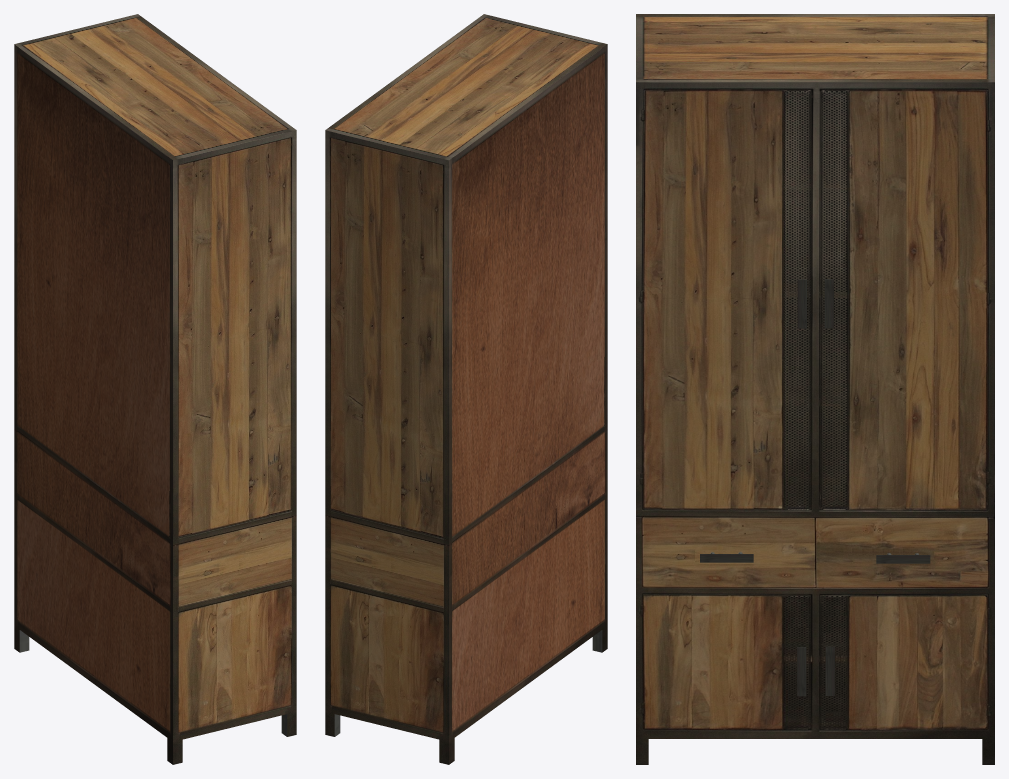
The model's file is chic196.glb.
The picture shows the model from 3 angles, left to right: view 1: azimuth 30°, elevation 25°; view 2: azimuth 150°, elevation 25°; view 3: azimuth 270°, elevation 25°; orthographic projection. The views are drawn at different scales.
Parts seen in each view (by area): view 1: node-0; view 2: node-0; view 3: node-0.
Boxes of the visible parts, bbox=[...] form: node-0: bbox=[14, 14, 296, 764]; node-0: bbox=[325, 14, 607, 764]; node-0: bbox=[636, 14, 994, 764].
Bounding box in the file's own units: 483 × 2100 × 1000.
Materials: 7 (7 with a texture image).
